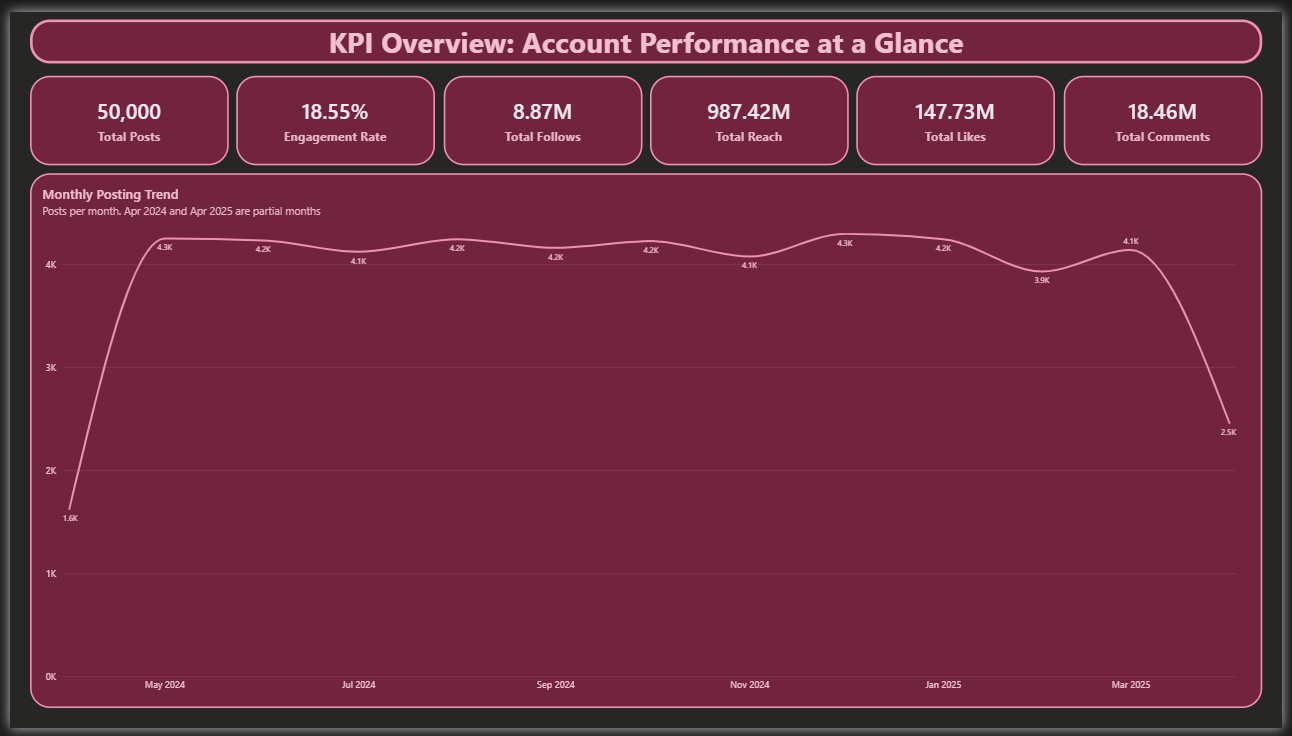

This screenshot's page, from the dashboard's own definition file:
{"tool":"powerbi","page":{"name":"KPI Overview","canvas":[1920,1080],"ordinal":0},"visuals":[{"type":"card","fields":{"Values":["Posts.Total Posts"]},"box":[30,96,300,135],"z":0},{"type":"card","fields":{"Values":["Posts.Engagement Rate"]},"box":[342,96,300,135],"z":1000},{"type":"card","fields":{"Values":["Posts.Total Likes"]},"box":[1278,96,300,135],"z":2000},{"type":"card","fields":{"Values":["Posts.Total Comments"]},"box":[1590,96,300,135],"z":3000},{"type":"card","fields":{"Values":["Posts.Total Reach"]},"box":[966,96,300,135],"z":4000},{"type":"card","fields":{"Values":["Posts.Total Follows"]},"box":[654,96,300,135],"z":5000},{"type":"lineChart","title":"Monthly Posting Trend","fields":{"Category":["Posts.Month Start"],"Y":["Posts.Total Posts"]},"box":[30,243,1860,807],"z":6000},{"type":"textbox","box":[30,12,1860,66],"z":7000}]}

Visuals, with their boxes in screenshot pixels (x1, y1, x2, y2), scaled from the page's 1920x1080 canvas onto the 1292x736 screenshot:
card - Posts.Total Posts: <region>20, 65, 222, 157</region>
card - Posts.Engagement Rate: <region>230, 65, 432, 157</region>
card - Posts.Total Likes: <region>860, 65, 1062, 157</region>
card - Posts.Total Comments: <region>1070, 65, 1272, 157</region>
card - Posts.Total Reach: <region>650, 65, 852, 157</region>
card - Posts.Total Follows: <region>440, 65, 642, 157</region>
"Monthly Posting Trend" lineChart: <region>20, 166, 1272, 716</region>
textbox: <region>20, 8, 1272, 53</region>
